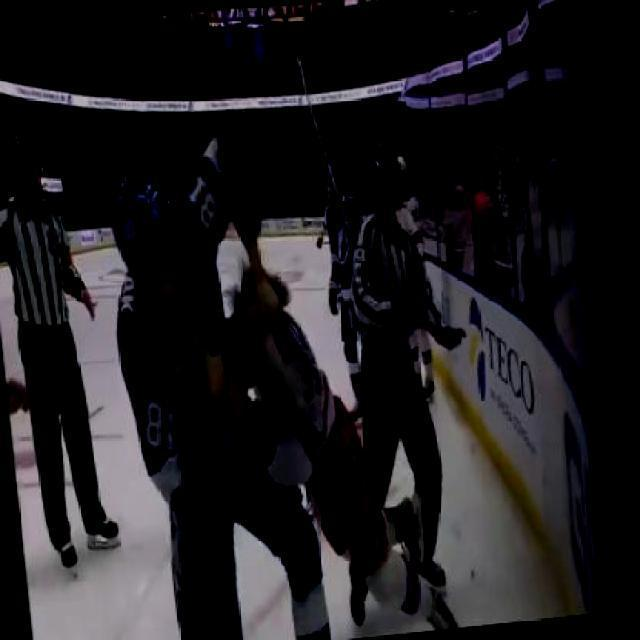fight: (97, 119, 391, 638)
non-fight: (332, 132, 490, 588), (0, 117, 129, 586)
